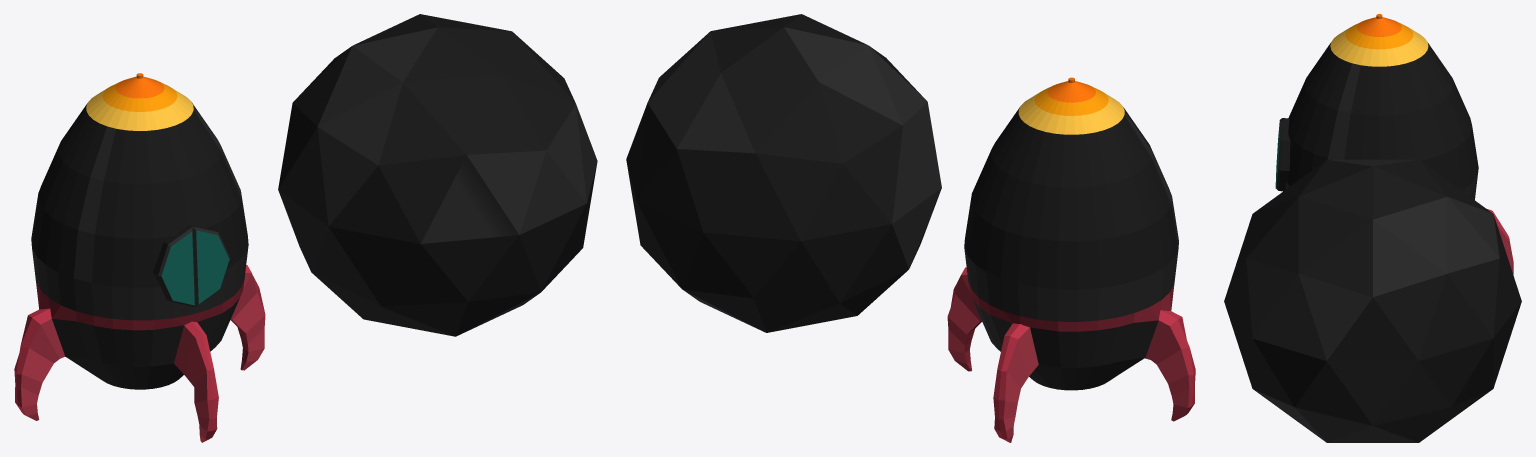
Rendered from roket.fbx.
3 views of the same model, side by side, from view 1: azimuth 30°, elevation 25°; view 2: azimuth 150°, elevation 25°; view 3: azimuth 270°, elevation 25° (orthographic). The views are drawn at different scales.
Parts seen in each view (by area): view 1: Komet, Rocket; view 2: Komet, Rocket; view 3: Komet, Rocket.
Boxes of the visible parts, box(x1,y1,x2,y2) form: Komet: box(278, 14, 597, 336); Rocket: box(14, 73, 265, 442); Komet: box(626, 14, 941, 332); Rocket: box(947, 77, 1195, 442); Komet: box(1224, 159, 1521, 442); Rocket: box(1275, 14, 1513, 274).
Size of the model in its own units: 1469 by 820 by 752.
